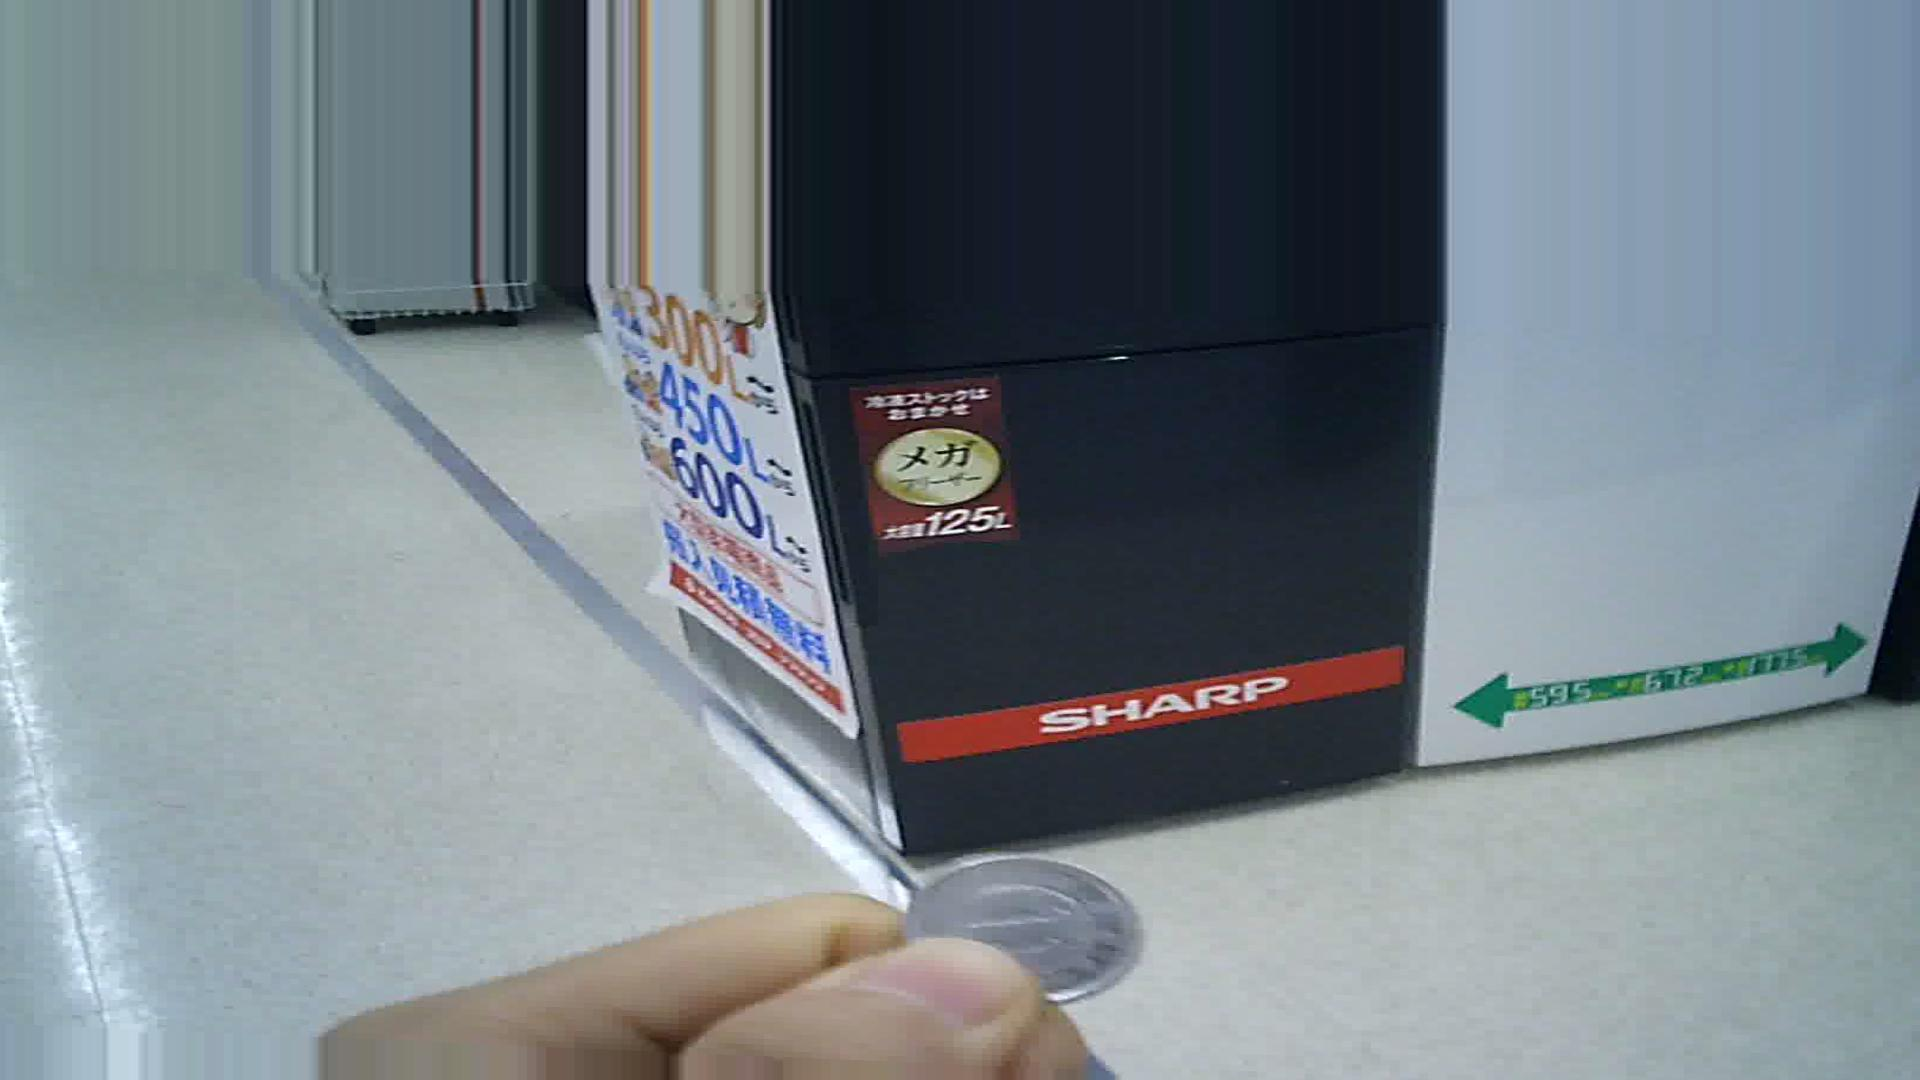1 Yen: (897, 847, 1153, 1011)
